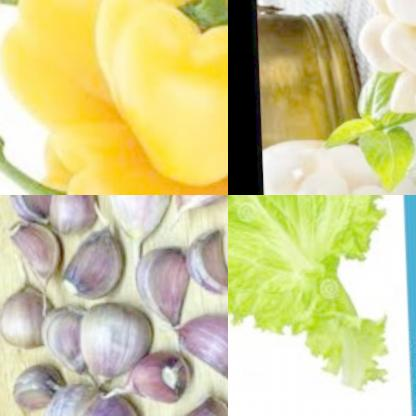bell pepper: (85, 0, 228, 185), (0, 0, 166, 145), (7, 103, 228, 195)
garlic: (346, 0, 416, 121), (257, 142, 416, 195), (62, 299, 146, 391), (52, 215, 128, 307), (0, 376, 139, 416), (126, 248, 191, 333), (167, 312, 228, 393), (108, 195, 169, 275), (106, 352, 180, 413), (0, 262, 48, 355), (29, 302, 87, 378), (178, 223, 228, 308), (5, 216, 55, 296), (34, 195, 98, 238), (161, 195, 228, 232), (146, 386, 228, 416), (2, 195, 67, 231)
salad: (228, 195, 390, 405)
